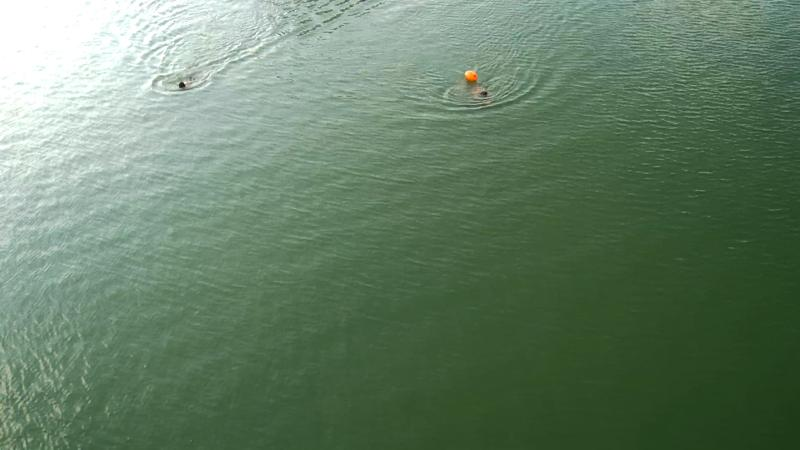swimmers: (457, 78, 490, 101)
